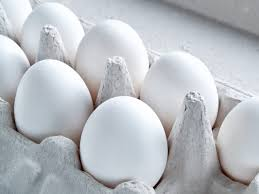eggs: (86, 94, 156, 182), (18, 57, 93, 139), (142, 50, 208, 131), (79, 15, 140, 83), (218, 90, 259, 190), (23, 2, 74, 60)
